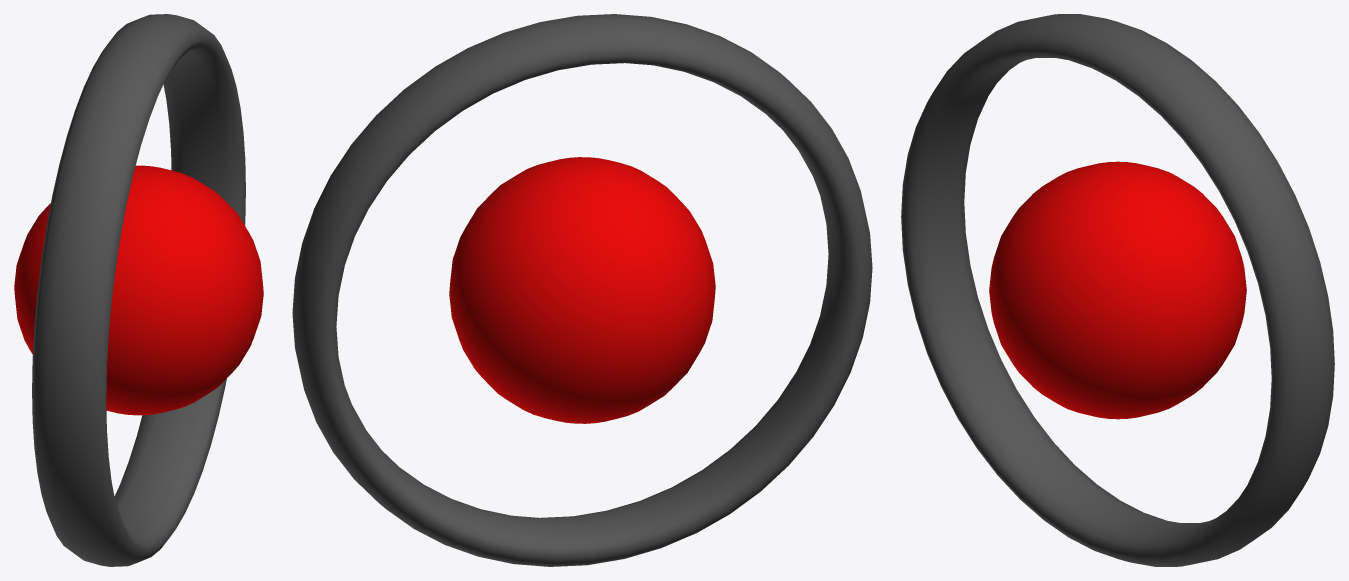
Rendered from spinning_torus.fbx.
3 renders of one model, left to right at view 1: azimuth 30°, elevation 25°; view 2: azimuth 150°, elevation 25°; view 3: azimuth 270°, elevation 25°, orthographic. The views are drawn at different scales.
Visible parts, largest first — view 1: Torus, Sphere; view 2: Torus, Sphere; view 3: Torus, Sphere.
Boxes of the visible parts, x1,y1,x2,y2 form: Torus: (32, 14, 245, 566); Sphere: (14, 165, 263, 415); Torus: (292, 14, 872, 566); Sphere: (449, 157, 715, 423); Torus: (901, 14, 1334, 566); Sphere: (989, 161, 1246, 419).
Bounding box in the file's own units: 3.43 × 4.45 × 3.37.
